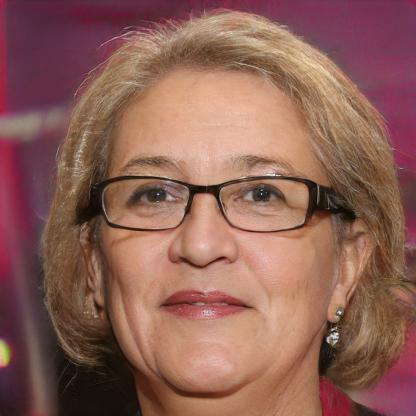glasses: (90, 169, 326, 238)
